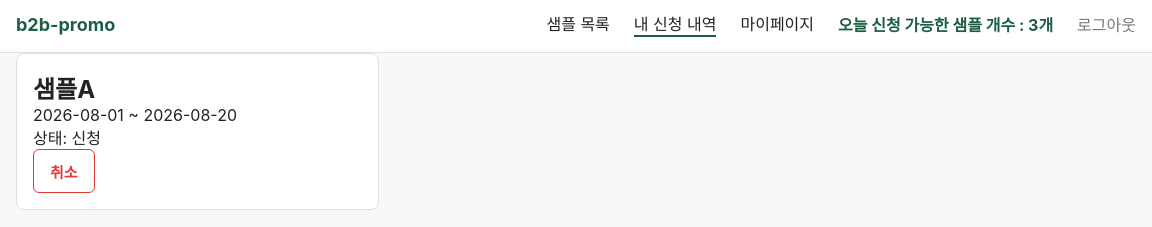
Test case: MyApplicationsPage › 취소 버튼 클릭 시 상태가 취소로 바뀌고 재신청 버튼이 노출된다
This screenshot has width=1152, height=227.
Step 1. Click the button "취소" → coordinates (64, 171), box [33, 149, 95, 193]
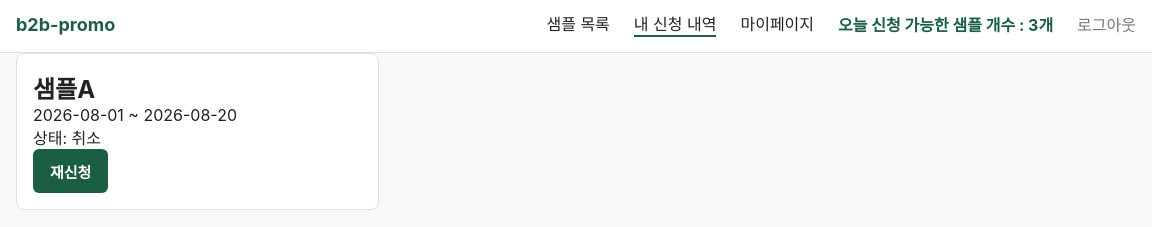
Expected: the text "상태: 취소" is shown, [33, 128, 101, 148]
Expected: the button "재신청" is shown, [33, 149, 108, 193]
